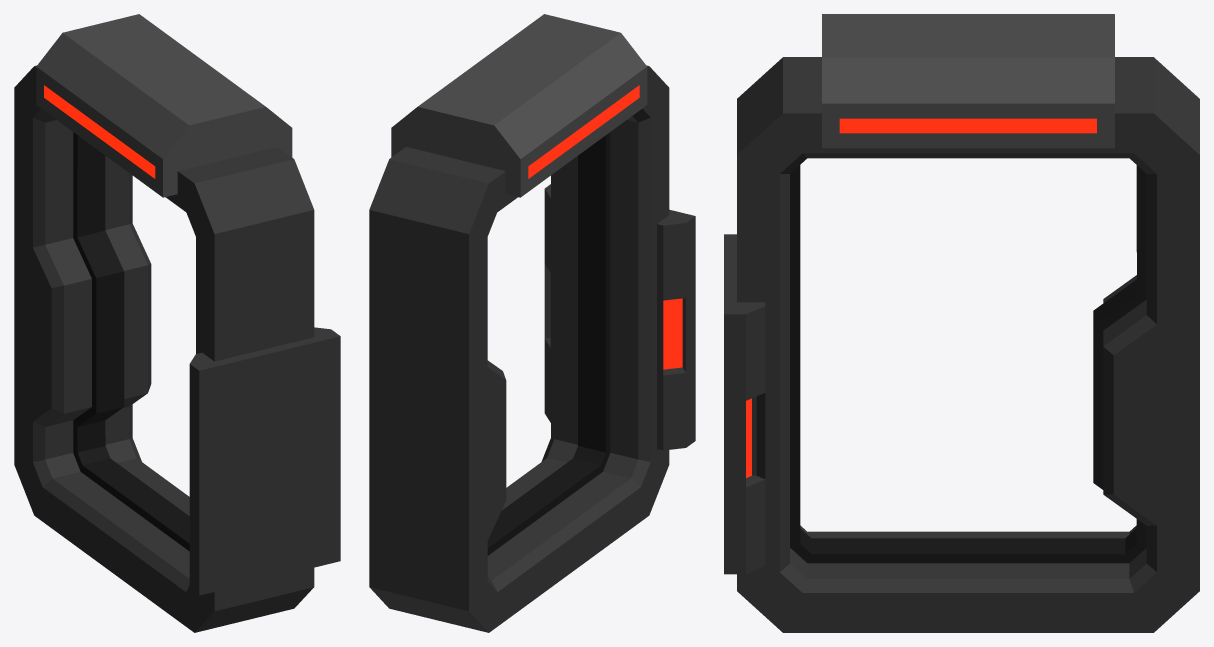
The model's file is arch.fbx.
The picture shows the model from 3 angles, left to right: view 1: azimuth 30°, elevation 25°; view 2: azimuth 150°, elevation 25°; view 3: azimuth 270°, elevation 25°; orthographic projection. The views are drawn at different scales.
Visible parts, largest first — view 1: arch; view 2: arch; view 3: arch.
Boxes of the visible parts, x1=… form: arch: x1=14, y1=14, x2=340, y2=632; arch: x1=369, y1=14, x2=695, y2=632; arch: x1=724, y1=14, x2=1199, y2=632.
Bounding box in the file's own units: 121 × 403 × 305.
